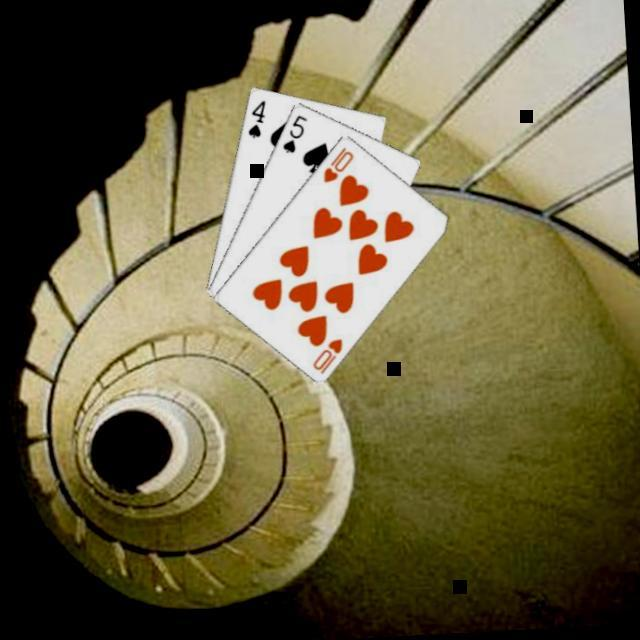10H: (308, 336, 348, 378), (321, 146, 358, 188)
4S: (244, 99, 272, 142)
5S: (280, 112, 314, 158)
